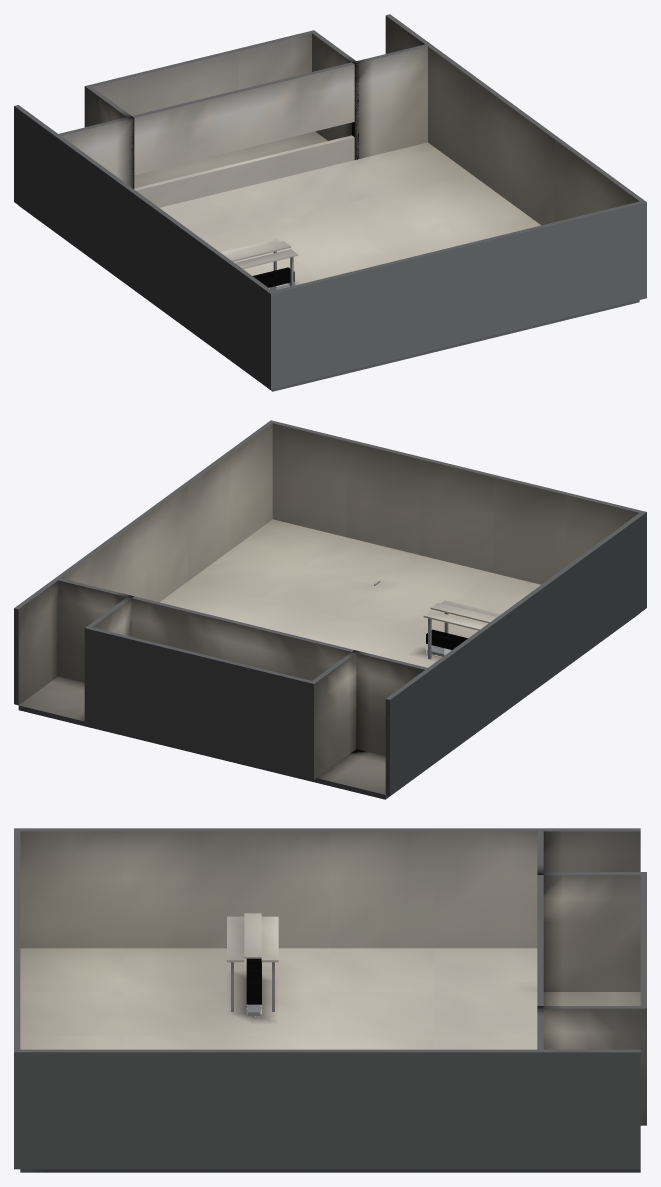
File: zone_a_parking.glb
3 renders of one model, top to bottom at view 1: azimuth 30°, elevation 25°; view 2: azimuth 150°, elevation 25°; view 3: azimuth 270°, elevation 25°, orthographic. The views are drawn at different scales.
Parts seen in each view (by area): view 1: vitrine_high, kit_wall_4m.018, kit_wall_4m.004, kit_wall_4m, kit_wall_4m.003, kit_wall_4m.001, kit_wall_4m.002, vitrine_low, kit_wall_4m.005, kit_wall_4m.013, kit_wall_4m.006, kit_wall_4m.007 (+31 smaller); view 2: vitrine_high, kit_wall_4m, kit_wall_4m.001, kit_wall_4m.002, kit_wall_4m.019, kit_wall_4m.021, kit_wall_4m.020, kit_wall_4m.003, kit_wall_4m.010, kit_wall_4m.011, kit_wall_4m.016, kit_wall_4m.005 (+30 smaller); view 3: kit_wall_4m.005, kit_wall_4m.011, kit_wall_4m.013, kit_wall_4m.016, kit_wall_4m.006, kit_wall_4m.008, kit_wall_4m.009, kit_wall_4m.012, kit_wall_4m.014, kit_wall_4m.015, kit_wall_4m.022, kit_wall_4m.007 (+23 smaller).
Boxes of the visible parts, x1,y1,x2,y2 form: vitrine_high: (132,62,354,175); kit_wall_4m.018: (352,44,427,159); kit_wall_4m.004: (273,273,348,388); kit_wall_4m: (567,201,642,317); kit_wall_4m.003: (346,255,422,370); kit_wall_4m.001: (493,219,568,334); kit_wall_4m.002: (420,237,495,352); vitrine_low: (134,135,354,207); kit_wall_4m.005: (226,260,272,387); kit_wall_4m.013: (470,76,516,203); kit_wall_4m.006: (183,229,229,356); kit_wall_4m.007: (141,198,187,325); vitrine_high: (131,596,353,680); kit_wall_4m: (272,421,348,536); kit_wall_4m.001: (346,439,421,554); kit_wall_4m.002: (419,457,495,572); kit_wall_4m.019: (236,663,311,778); kit_wall_4m.021: (89,627,164,742); kit_wall_4m.020: (162,645,238,760); kit_wall_4m.003: (493,475,568,584); kit_wall_4m.010: (385,668,432,795); kit_wall_4m.011: (14,577,60,705); kit_wall_4m.016: (226,422,272,549); kit_wall_4m.005: (597,513,644,640); kit_wall_4m.005: (20,828,123,948); kit_wall_4m.011: (537,1049,640,1169); kit_wall_4m.013: (330,1049,433,1169); kit_wall_4m.016: (20,1049,123,1169); kit_wall_4m.006: (123,828,226,948); kit_wall_4m.008: (330,828,433,948); kit_wall_4m.009: (434,828,537,948); kit_wall_4m.012: (434,1049,537,1169); kit_wall_4m.014: (227,1049,330,1169); kit_wall_4m.015: (123,1049,226,1169); kit_wall_4m.022: (537,872,640,991); kit_wall_4m.007: (227,828,330,948).
Bounding box in the file's own units: 20.5 × 5.25 × 24.5.
